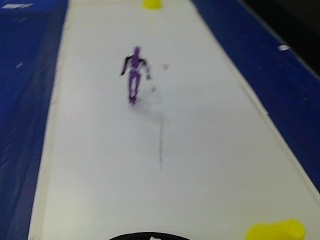pedestrian: (114, 40, 156, 108)
